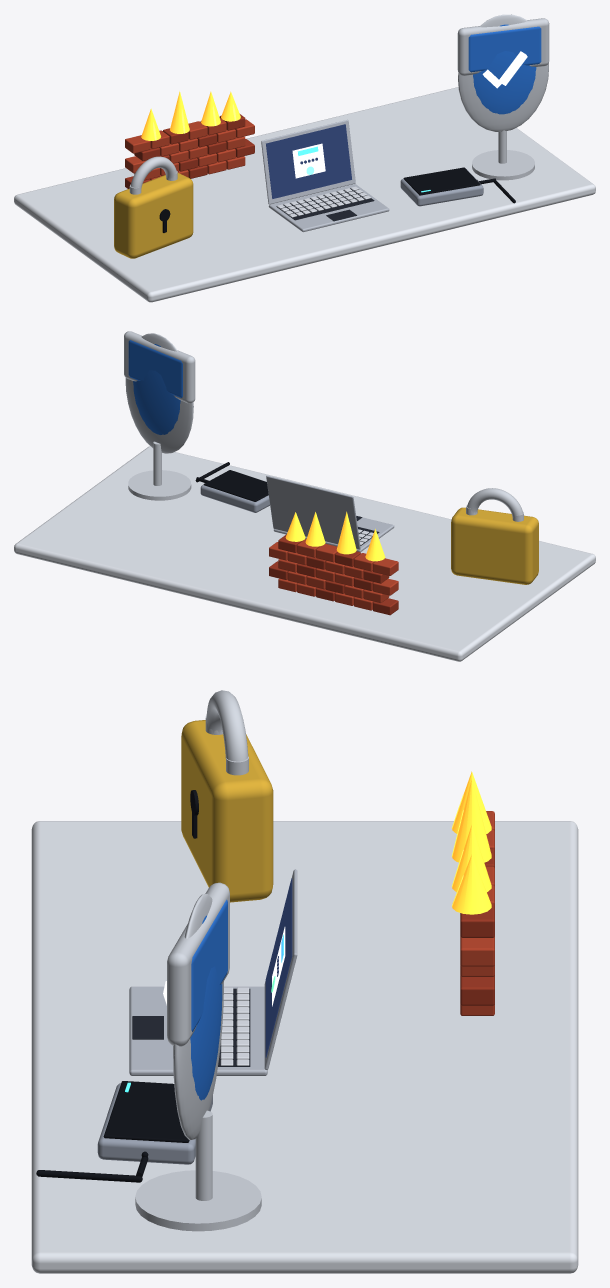
The model's file is keamanan-data.glb.
3 renders of one model, top to bottom at view 1: azimuth 30°, elevation 25°; view 2: azimuth 150°, elevation 25°; view 3: azimuth 270°, elevation 25°, orthographic. The views are drawn at different scales.
Visible parts, largest first — view 1: model; view 2: model; view 3: model.
Part boxes in pixels (box(x1,y1,x2,y2)): model: box(14, 14, 595, 302); model: box(14, 331, 595, 661); model: box(31, 690, 578, 1273).
Bounding box in the file's own units: 3.6 × 1.25 × 1.9.
